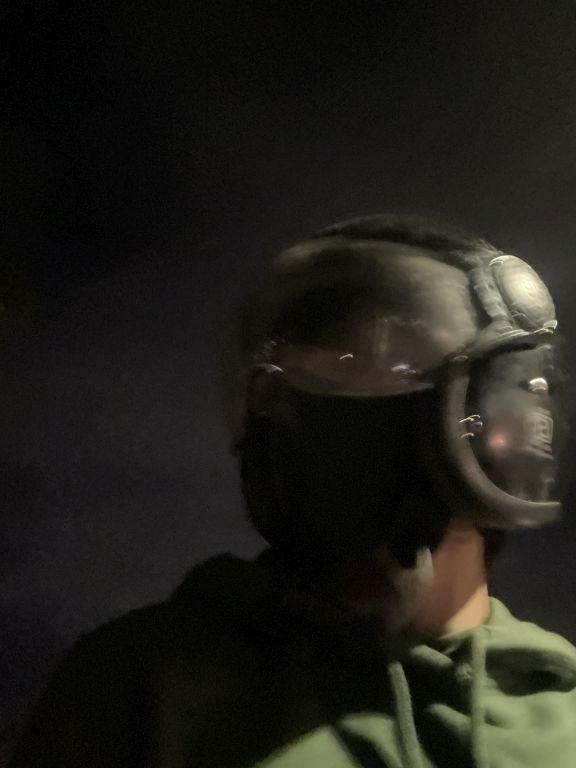helmet: (199, 184, 576, 555)
